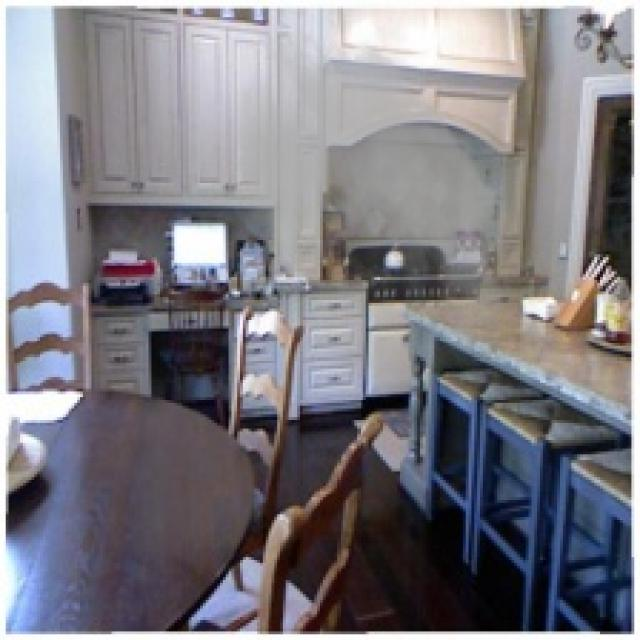smoke: (203, 14, 548, 409)
